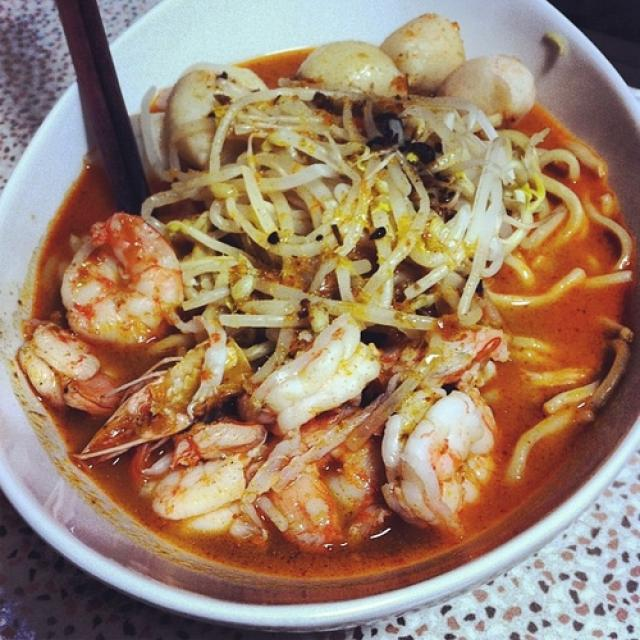面条主食: (12, 10, 627, 602)
